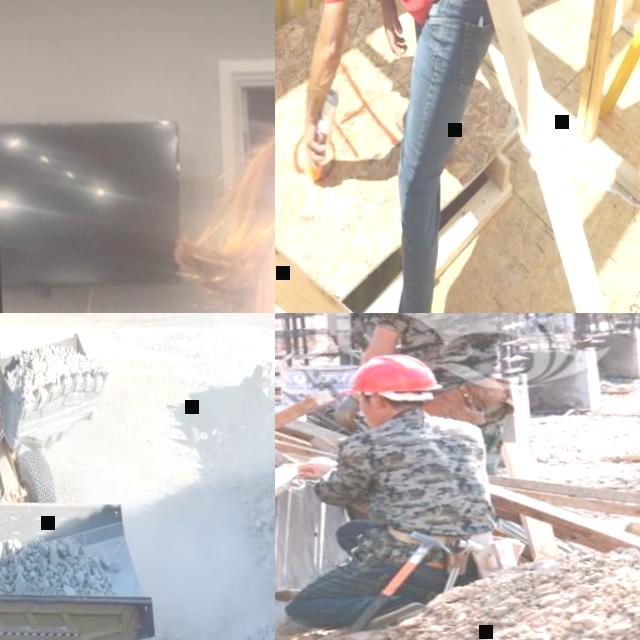helmet: (334, 348, 439, 403)
machinery: (0, 447, 164, 640), (0, 318, 113, 504)
no_mask: (360, 404, 380, 426)
no_vest: (344, 413, 496, 556), (382, 313, 520, 390), (528, 313, 572, 333)
person: (0, 0, 275, 313), (290, 0, 528, 313), (275, 351, 508, 638), (354, 313, 516, 457), (515, 313, 570, 342)
